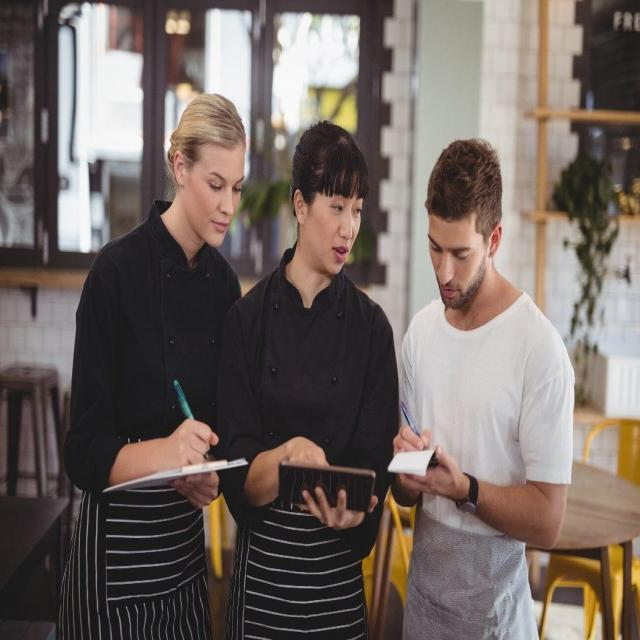person: (375, 113, 585, 639), (60, 43, 244, 635), (244, 82, 396, 622)
